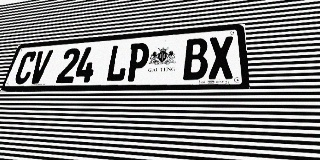2: (56, 48, 82, 83)
4: (73, 46, 99, 83)
B: (183, 38, 208, 80)
C: (12, 51, 38, 84)
L: (104, 44, 130, 82)
P: (125, 42, 150, 81)
V: (27, 50, 53, 84)
X: (208, 36, 235, 79)
